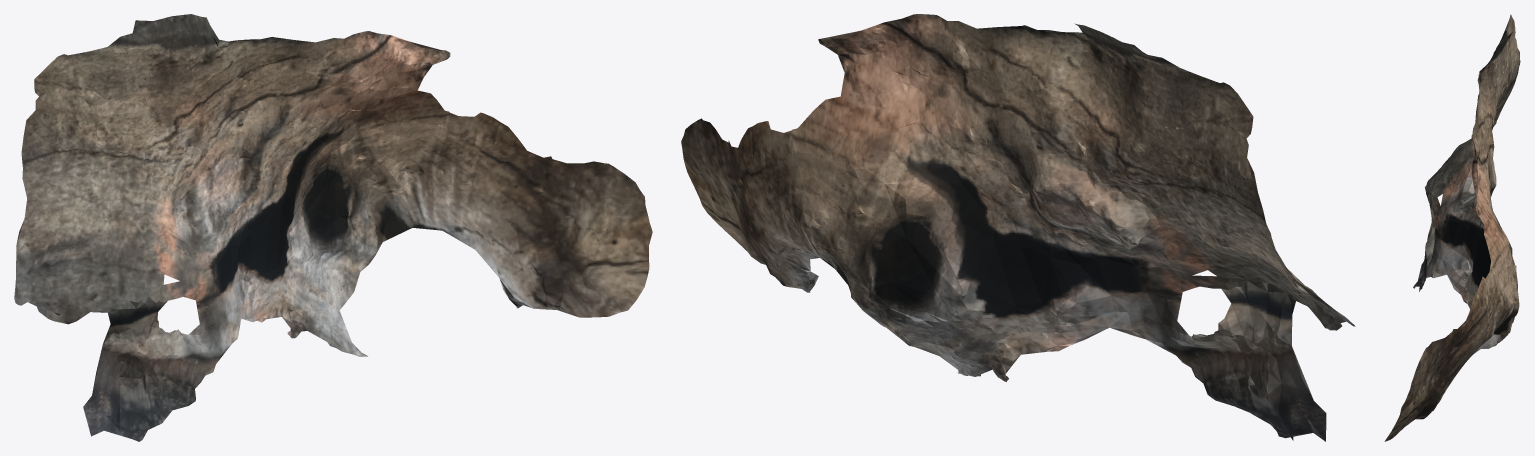
3 renders of one model, left to right at view 1: azimuth 30°, elevation 25°; view 2: azimuth 150°, elevation 25°; view 3: azimuth 270°, elevation 25°, orthographic. The views are drawn at different scales.
Visible parts, largest first — view 1: TexturedMesh; view 2: TexturedMesh; view 3: TexturedMesh.
Boxes of the visible parts, x1,y1,x2,y2 form: TexturedMesh: (14,14,652,441); TexturedMesh: (681,14,1355,441); TexturedMesh: (1384,14,1520,441).
Size of the model in its own units: 2.26 by 1.3 by 0.5755.
1 material, 1 textured.
